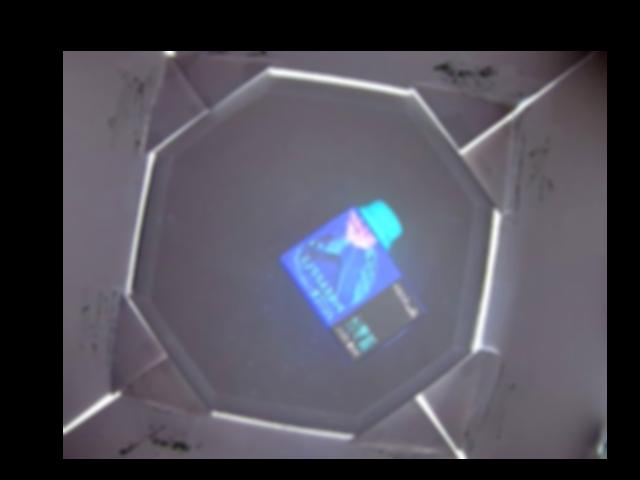Bottle: (280, 197, 425, 364)
